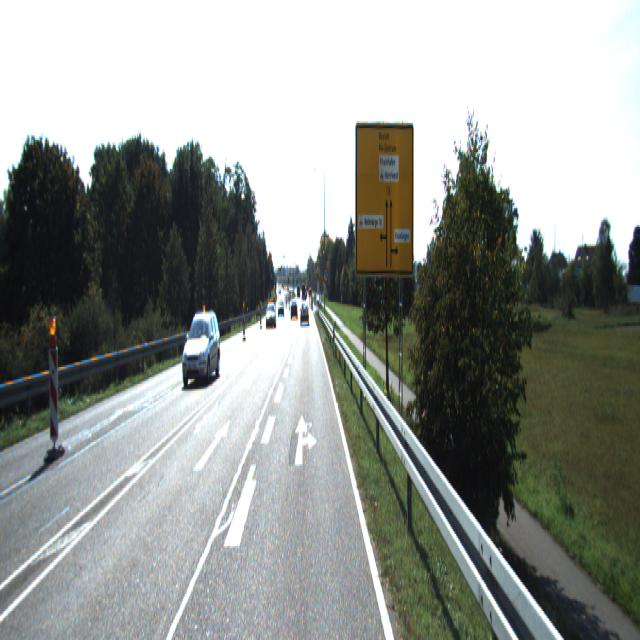Car: (182, 314, 222, 389), (300, 303, 310, 325)
